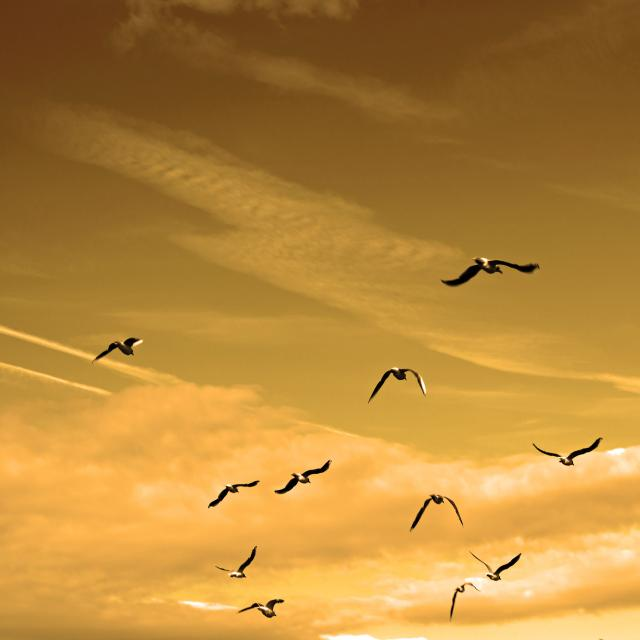bird: (443, 260, 544, 294), (533, 435, 604, 470), (371, 368, 428, 409), (277, 456, 332, 496), (468, 549, 522, 588), (410, 494, 464, 532), (208, 480, 260, 511), (448, 582, 486, 624), (216, 545, 256, 582), (97, 337, 145, 364), (238, 596, 285, 620)
